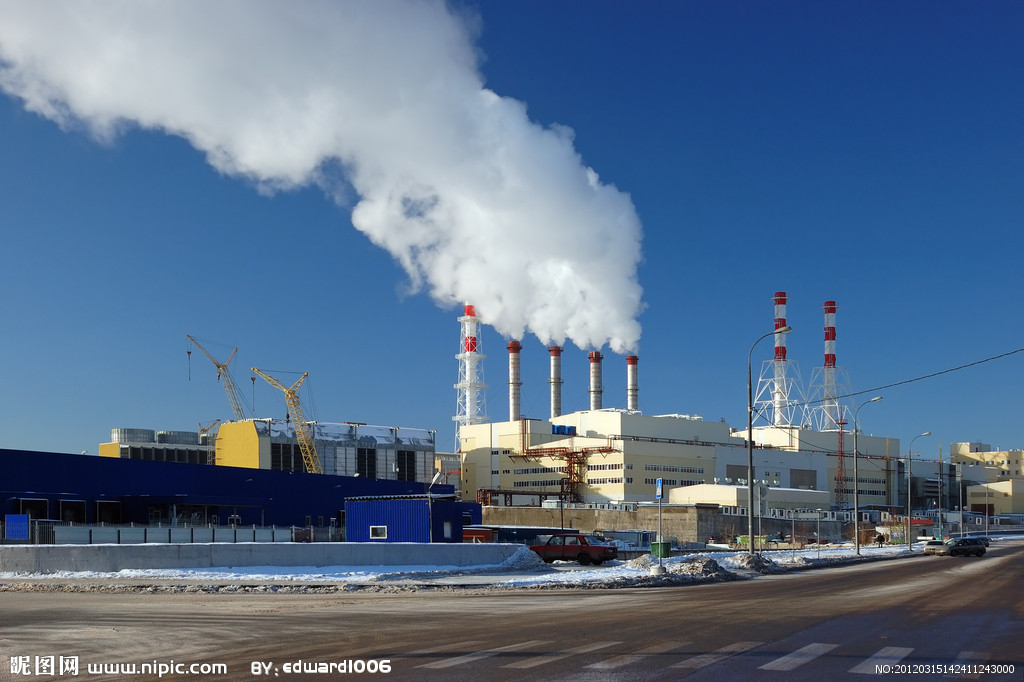dust: (372, 68, 577, 360), (533, 160, 651, 370)
